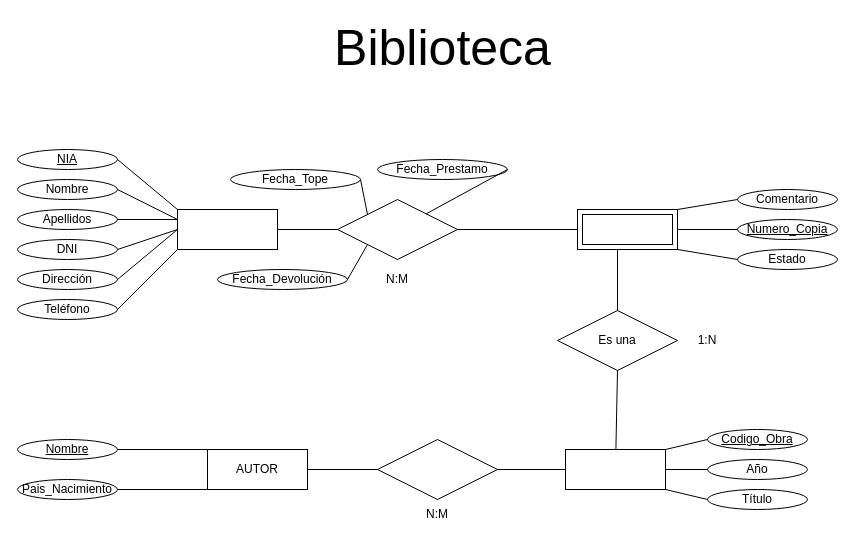
The diagram is 855 pixels wide and 546 high, and some of its shapes have lost their labels. The shapes that lost their labels are listed below. From the top down, each one's box as (x1, y1, x2, y2) in pixels, then its label:
(176, 208, 278, 250): ALUMNO
(336, 198, 458, 260): Prestado a
(576, 208, 678, 250): EJEMPLAR
(376, 438, 498, 500): Escrito por
(564, 448, 666, 490): OBRA
